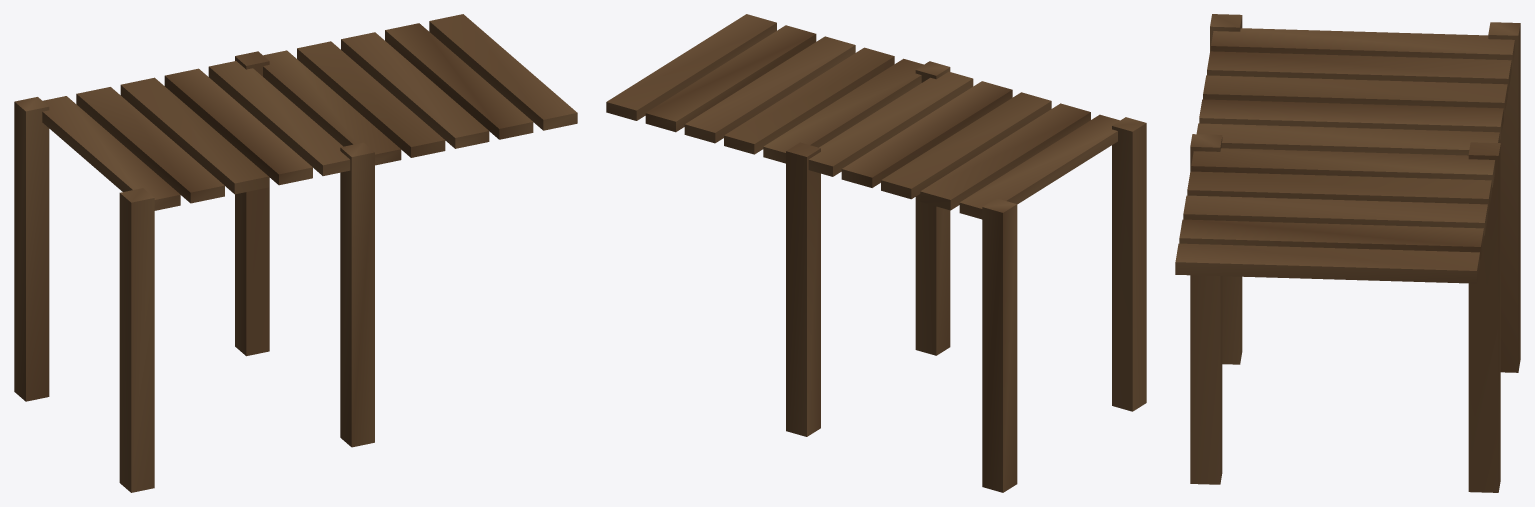
Rendered from TRN2_Pier_West.fbx.
3 renders of one model, left to right at view 1: azimuth 30°, elevation 25°; view 2: azimuth 150°, elevation 25°; view 3: azimuth 270°, elevation 25°, orthographic. The views are drawn at different scales.
Visible parts, largest first — view 1: TRN2_Pier_West.001; view 2: TRN2_Pier_West.001; view 3: TRN2_Pier_West.001.
Boxes of the visible parts, <box> form: TRN2_Pier_West.001: <box>14,14,577,492</box>; TRN2_Pier_West.001: <box>606,14,1146,492</box>; TRN2_Pier_West.001: <box>1175,14,1520,492</box>.
Size of the model in its own units: 5.15 by 3.2 by 2.97.
